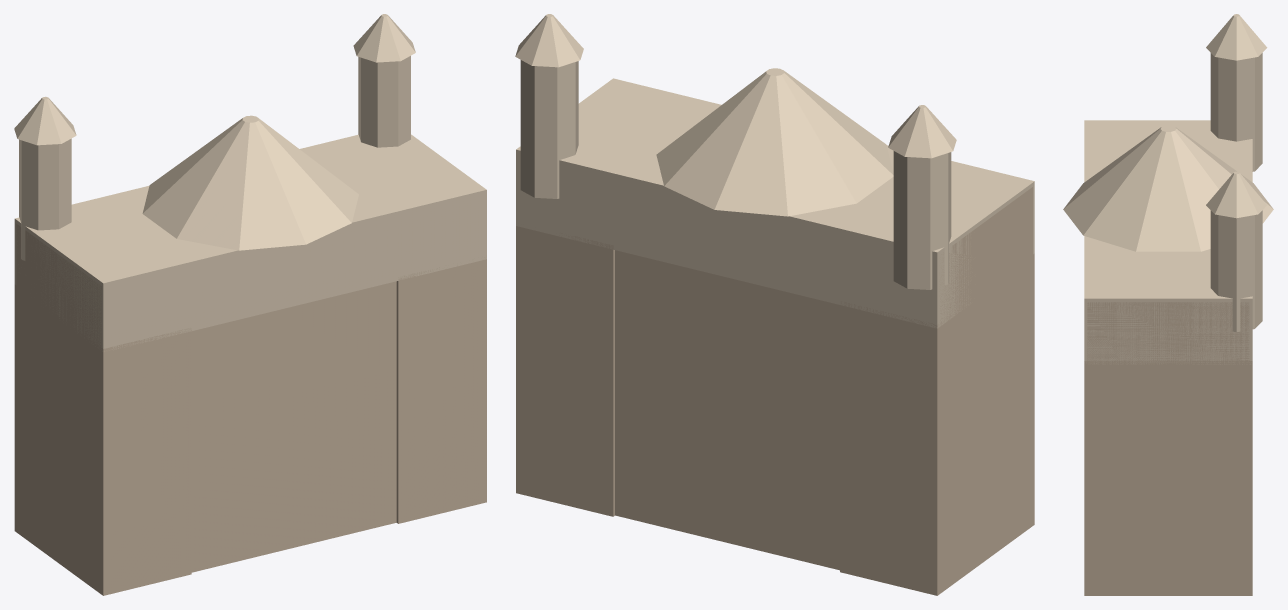
Rendered from gateway.glb.
3 views of the same model, side by side, from view 1: azimuth 30°, elevation 25°; view 2: azimuth 150°, elevation 25°; view 3: azimuth 270°, elevation 25° (orthographic). The views are drawn at different scales.
Visible parts, largest first — view 1: gw_body, gw_lintel, gw_l, gw_r, gw_dome, gw_tw-1, gw_tw1, gw_td1, gw_td-1; view 2: gw_body, gw_lintel, gw_l, gw_r, gw_dome, gw_tw-1, gw_tw1, gw_td1, gw_td-1; view 3: gw_body, gw_r, gw_lintel, gw_dome, gw_tw1, gw_tw-1, gw_td-1, gw_td1.
Boxes of the visible parts, box(x1,y1,x2,y2) form: gw_body: box(16, 224, 396, 594); gw_lintel: box(14, 134, 486, 351); gw_l: box(14, 284, 191, 595); gw_r: box(396, 257, 486, 523); gw_dome: box(142, 115, 358, 250); gw_tw-1: box(19, 138, 71, 260); gw_tw1: box(358, 56, 410, 147); gw_td1: box(353, 14, 415, 62); gw_td-1: box(14, 96, 76, 145); gw_body: box(615, 187, 1032, 593); gw_lintel: box(516, 78, 1034, 328); gw_l: box(840, 253, 1034, 595); gw_r: box(516, 226, 614, 516); gw_dome: box(656, 68, 893, 216); gw_tw-1: box(893, 151, 951, 289); gw_tw1: box(520, 60, 578, 198); gw_td1: box(515, 14, 583, 67); gw_td-1: box(888, 105, 956, 158); gw_body: box(1087, 302, 1249, 595); gw_r: box(1084, 361, 1252, 595); gw_lintel: box(1084, 120, 1252, 364); gw_dome: box(1063, 125, 1273, 251); gw_tw1: box(1210, 210, 1262, 332); gw_tw-1: box(1210, 53, 1262, 171); gw_td-1: box(1206, 14, 1267, 60); gw_td1: box(1206, 171, 1266, 218).
Bounding box in the file's own units: 26.8 × 28.1 × 13.
